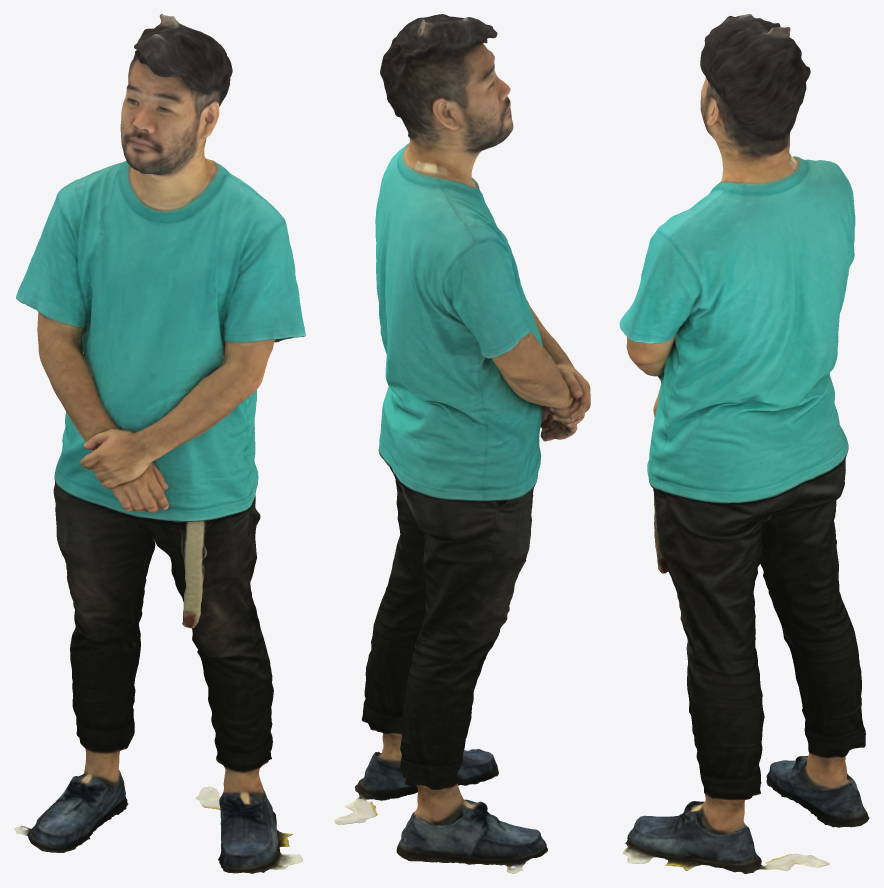
The model's file is visitor5.glb.
The picture shows the model from 3 angles, left to right: view 1: azimuth 30°, elevation 25°; view 2: azimuth 150°, elevation 25°; view 3: azimuth 270°, elevation 25°; orthographic projection.
Visible parts, largest first — view 1: meshNode; view 2: meshNode; view 3: meshNode.
Part boxes in pixels (x1,y1,x2,y2): meshNode: [14, 14, 305, 873]; meshNode: [334, 14, 590, 873]; meshNode: [619, 14, 869, 873].
Bounding box in the file's own units: 4.35 × 15.65 × 4.39.
1 material, 1 textured.
